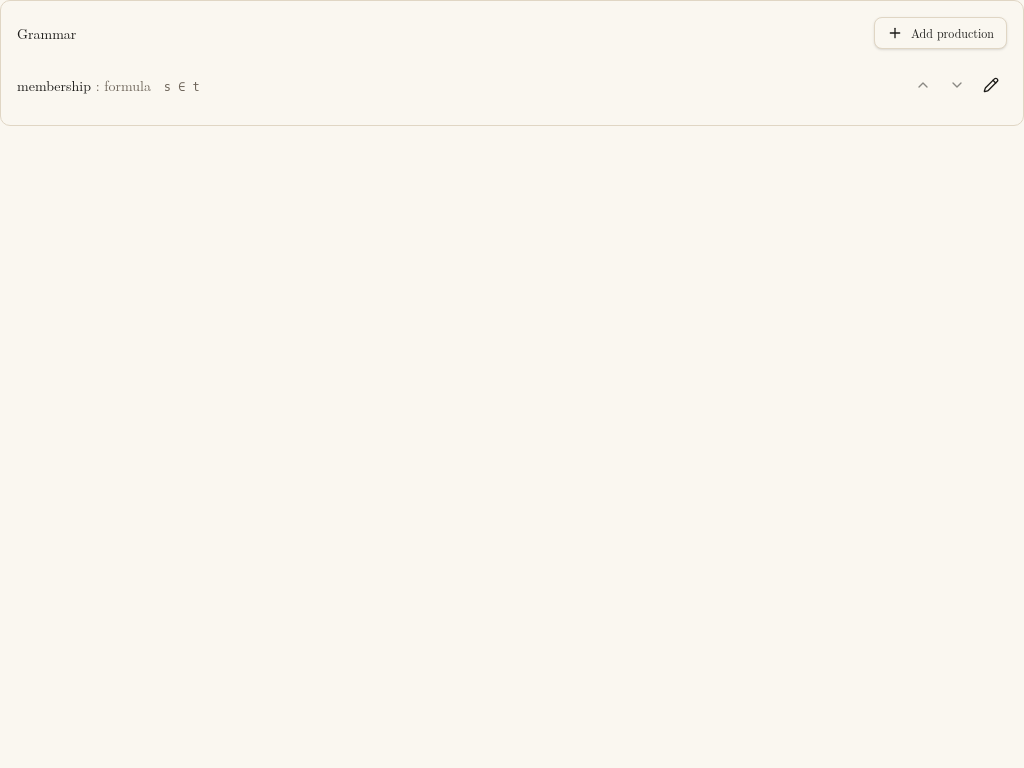
Test: ProductionsSection sort validation › enables Save when the stored sort is still valid
Click the 3rd button named "Edit " at (991, 85), box [975,69,1007,101]
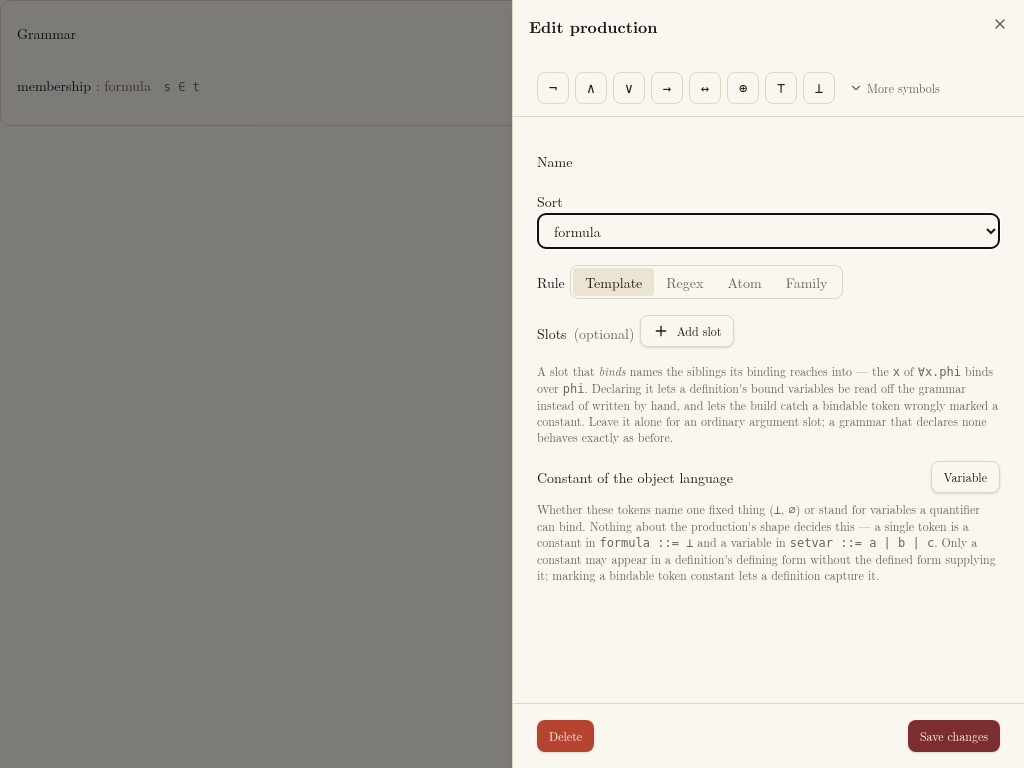
expect the button "Save changes" is enabled: met, box [908,720,1000,752]
